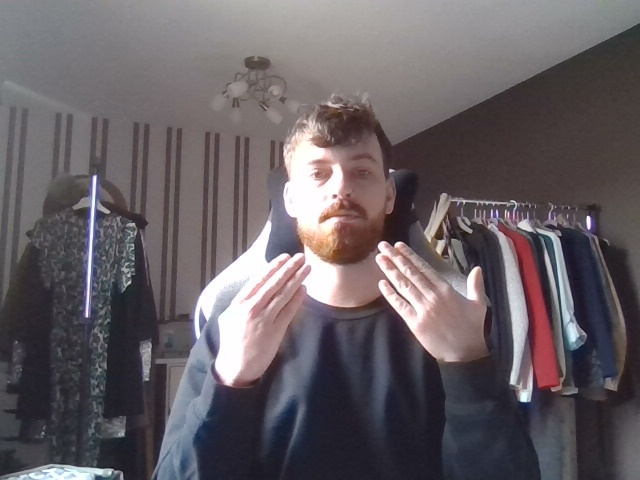Thanks: (197, 227, 512, 387)
